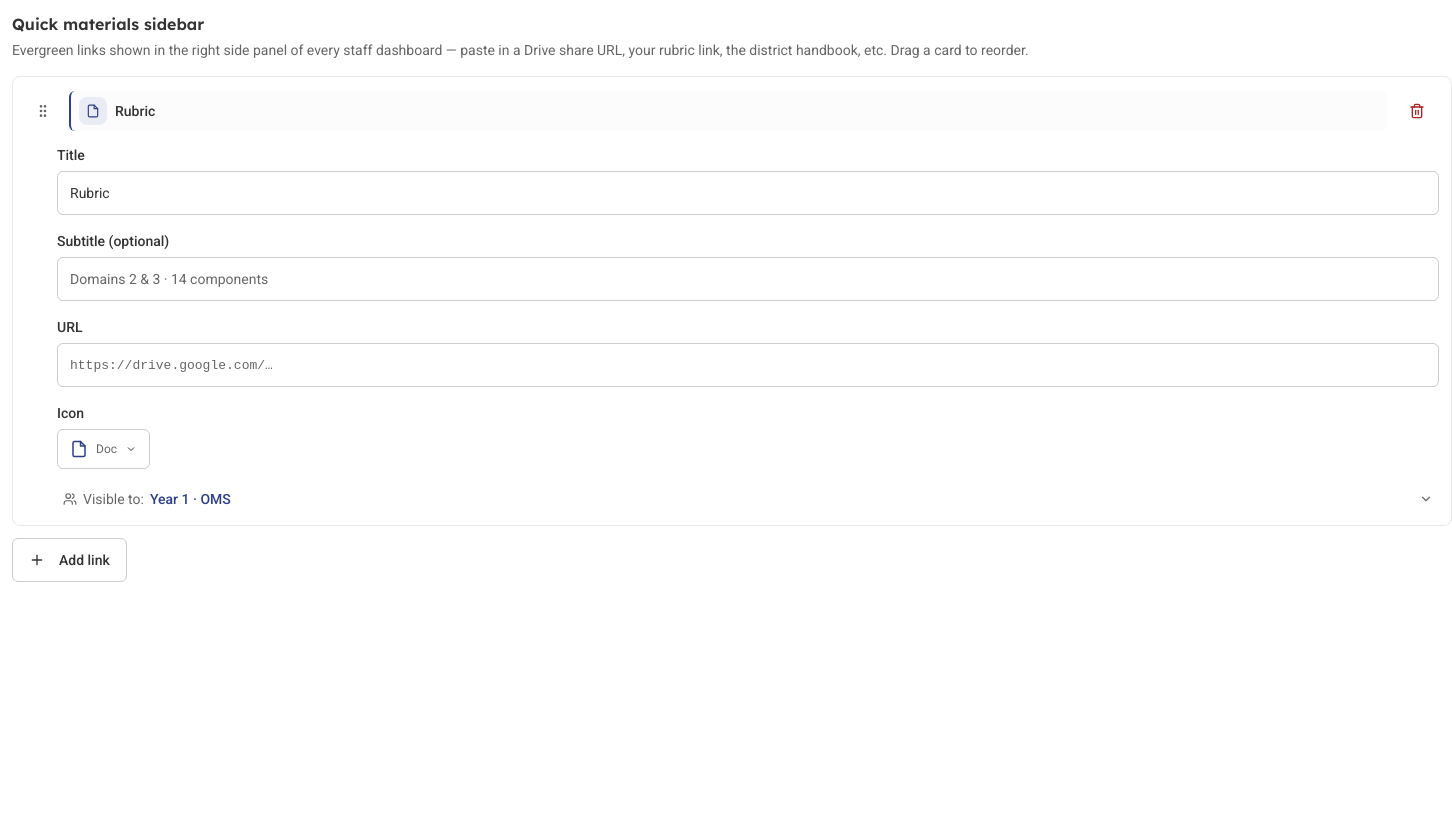
Scenario: QuickMaterialsEditor audience integration › counts active roster matches per card with AND-across semantics
Expected: the text "Year 1 · OMS" is shown, [150,489,231,509]
Click the button "Visible to: Year 1 · OMS". click: (113, 499)
box: [57,485,1439,513]
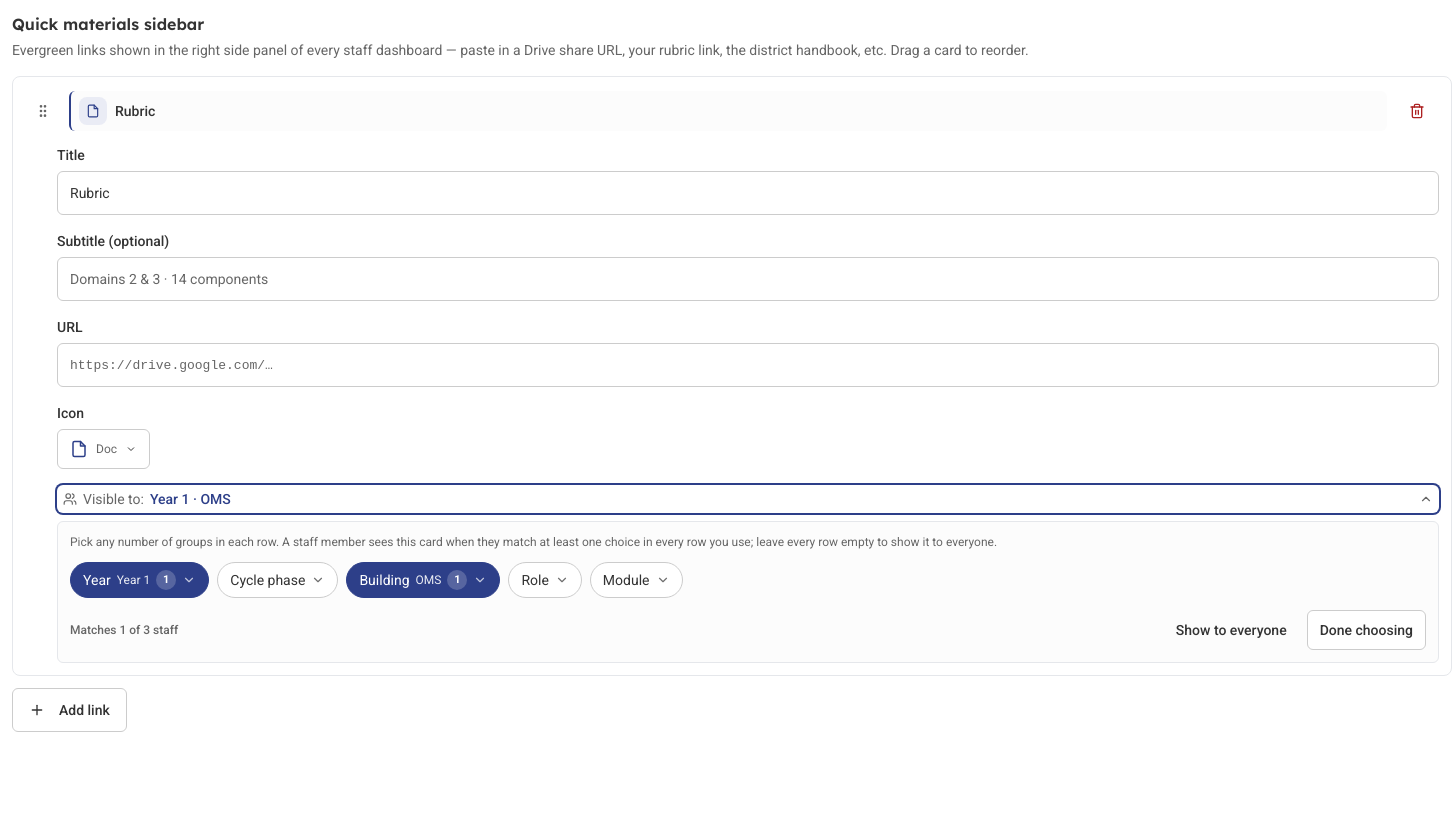
Now the text with test id "audience-match-count" reads "Matches 1 of 3 staff", box [70,623,178,637]
